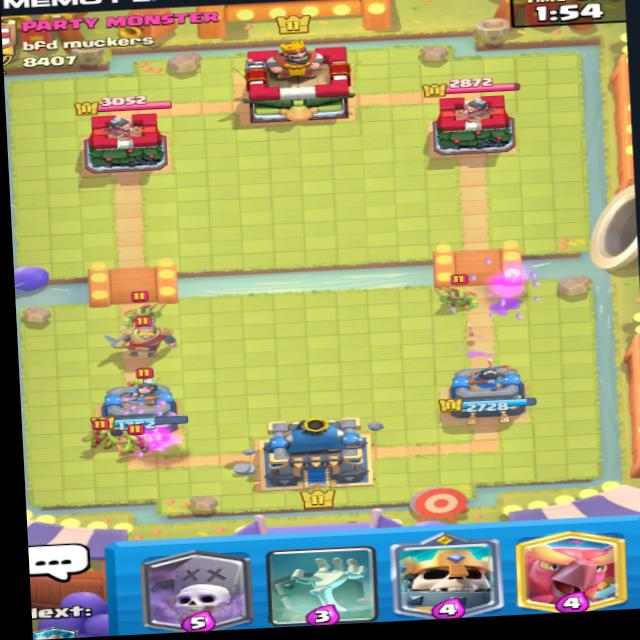goblin: (116, 423, 164, 465), (76, 418, 122, 449), (125, 366, 159, 391)
knight: (109, 316, 182, 366)
spear-goblin: (435, 274, 491, 326), (113, 294, 172, 326)
